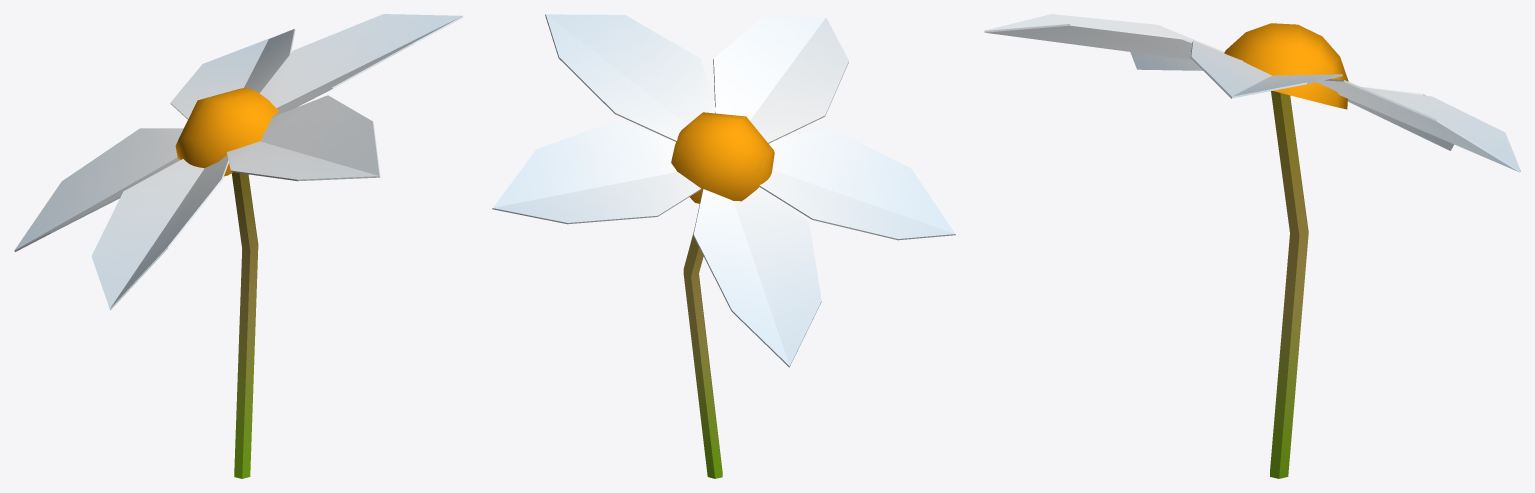
Rendered from Forest_Plant_004.FBX.
The picture shows the model from 3 angles, left to right: view 1: azimuth 30°, elevation 25°; view 2: azimuth 150°, elevation 25°; view 3: azimuth 270°, elevation 25°; orthographic projection. The views are drawn at different scales.
Parts seen in each view (by area): view 1: Forest_Plant_004; view 2: Forest_Plant_004; view 3: Forest_Plant_004.
Part boxes in pixels (x1,y1,x2,y2): Forest_Plant_004: (14,14,463,478); Forest_Plant_004: (492,14,955,478); Forest_Plant_004: (984,14,1520,478).
Bounding box in the file's own units: 123 × 128 × 126.
Materials: 1 (1 with a texture image).
